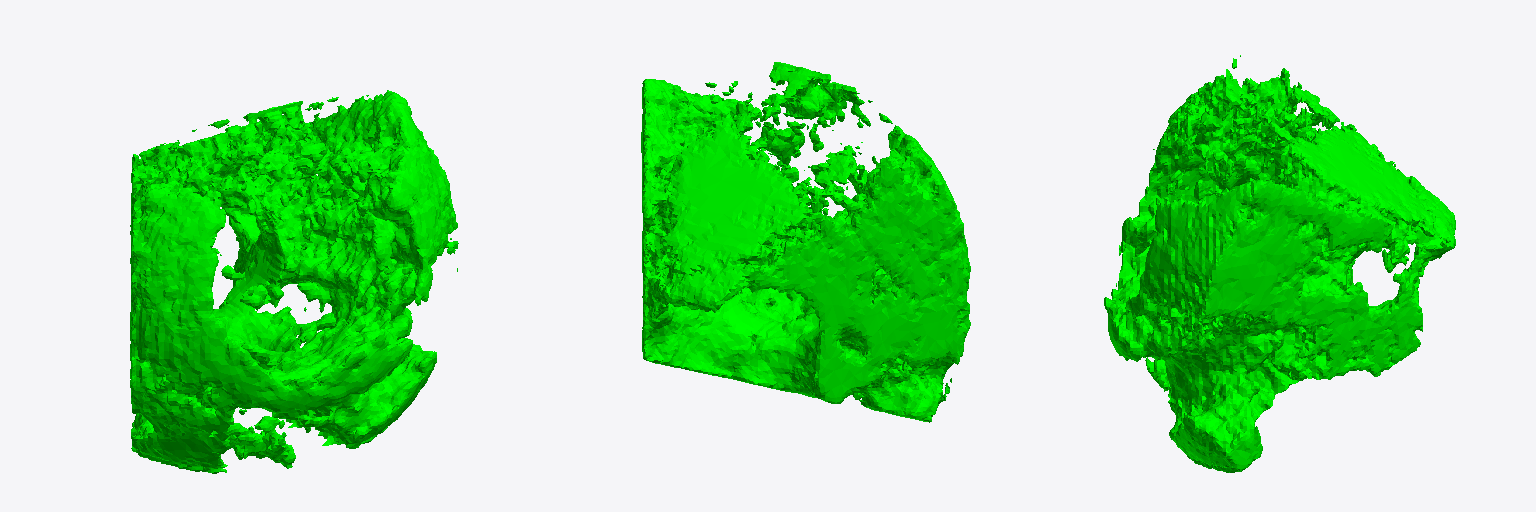
Rendered from B939XXXX-1_base_0.obj.
The picture shows the model from 3 angles: view 1: azimuth 30°, elevation 25°; view 2: azimuth 150°, elevation 25°; view 3: azimuth 270°, elevation 25°; orthographic projection.
Parts seen in each view (by area): view 1: 0_base; view 2: 0_base; view 3: 0_base.
Boxes of the visible parts, box(x1,y1,x2,y2) form: 0_base: box(130, 90, 458, 473); 0_base: box(641, 62, 970, 422); 0_base: box(1104, 55, 1455, 472).
Bounding box in the file's own units: 219 × 219 × 205.